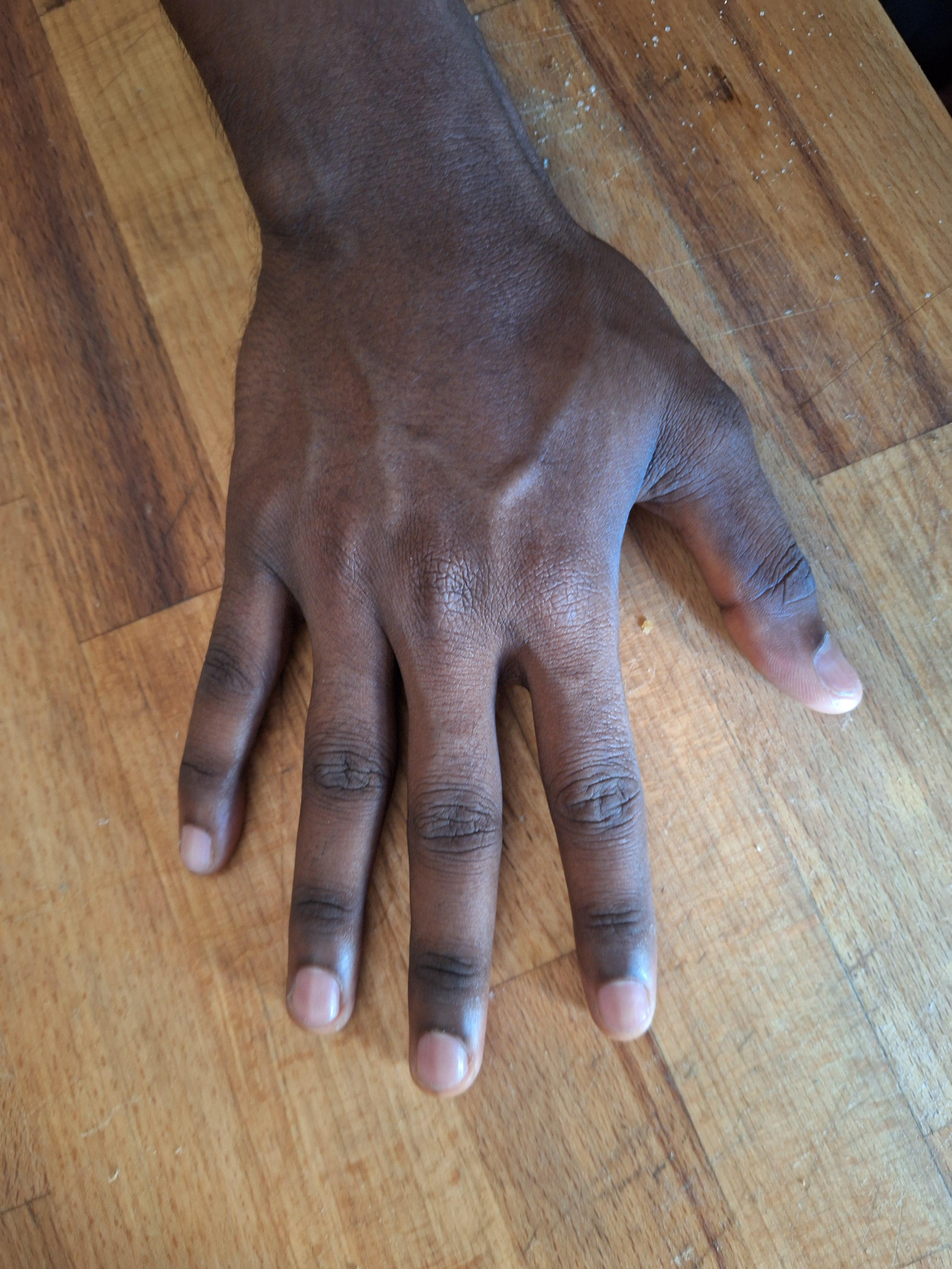Fingernail: (417, 1032, 468, 1091), (814, 633, 860, 697), (293, 967, 341, 1026), (598, 981, 650, 1032), (181, 826, 212, 875)
